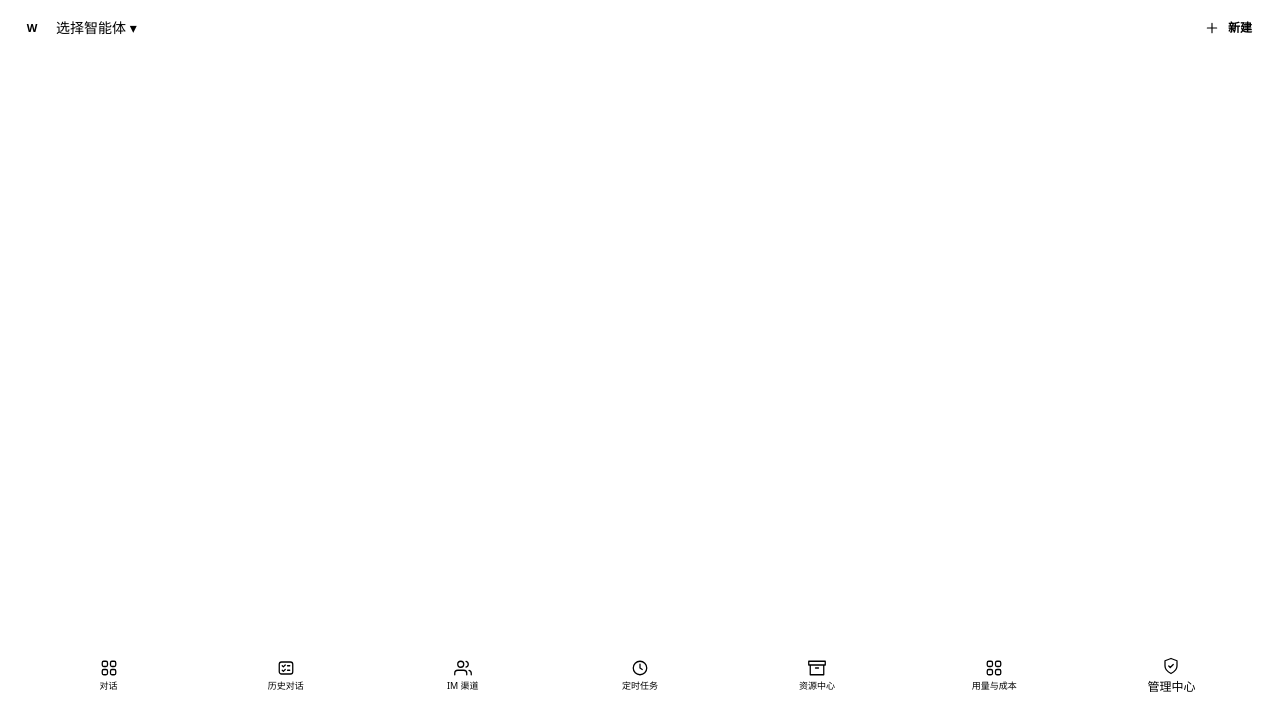
Scenario: offers the same management menu on mobile
The width and height of the screenshot is (1280, 720).
Click the button "管理中心" at (1171, 676), box 1143,654 -> 1199,698
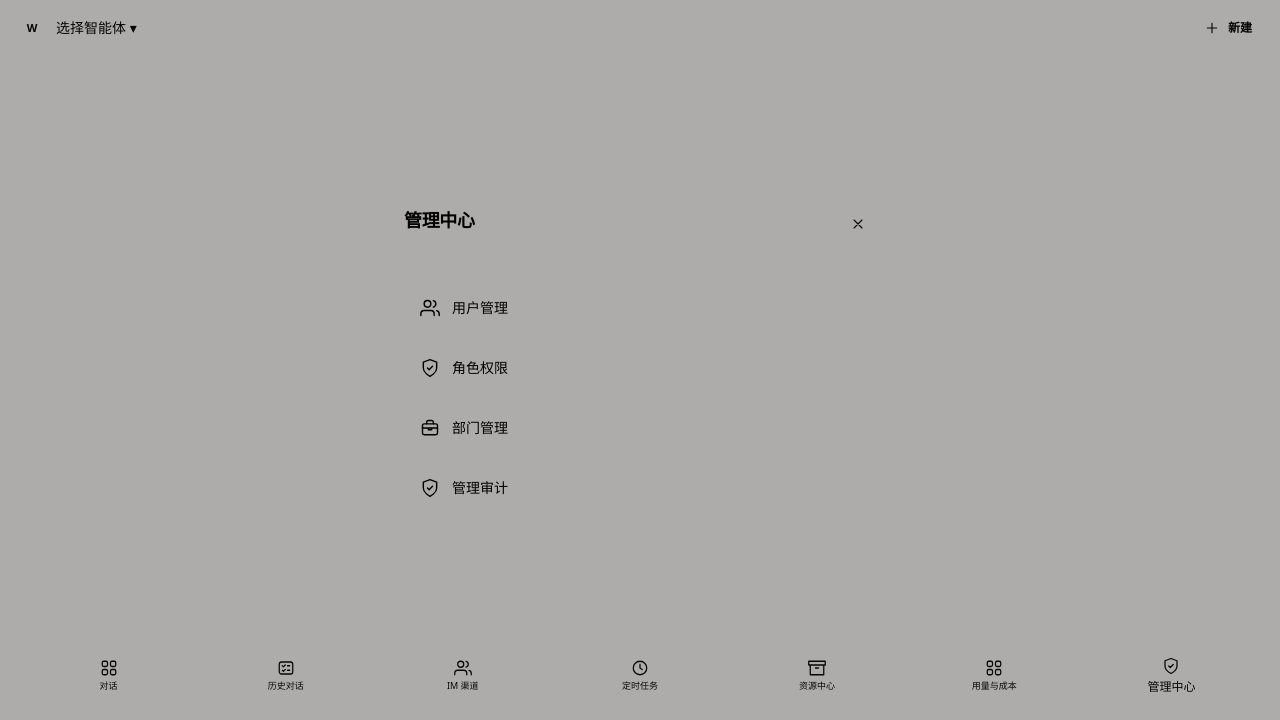
Check: the dialog "管理中心" is shown, box 380,186 -> 900,534
Click the link "管理审计" at (464, 488), box 420,478 -> 508,498
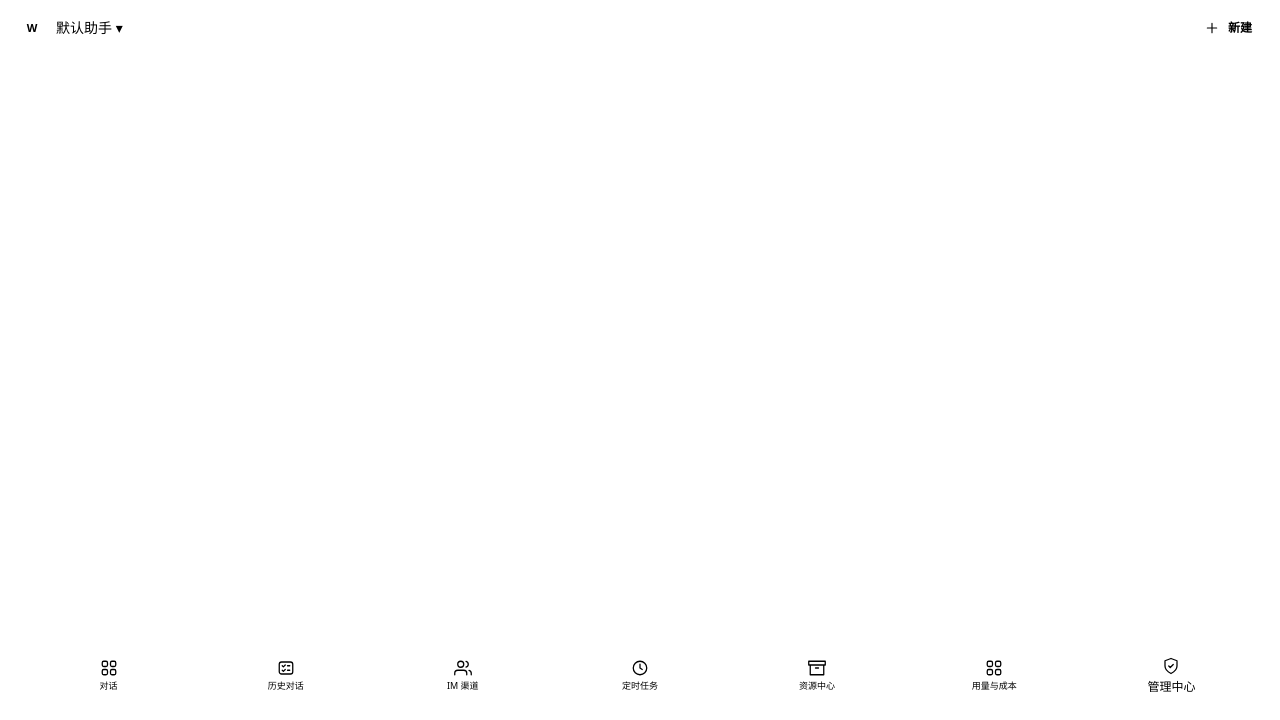
Check: the dialog is gone
